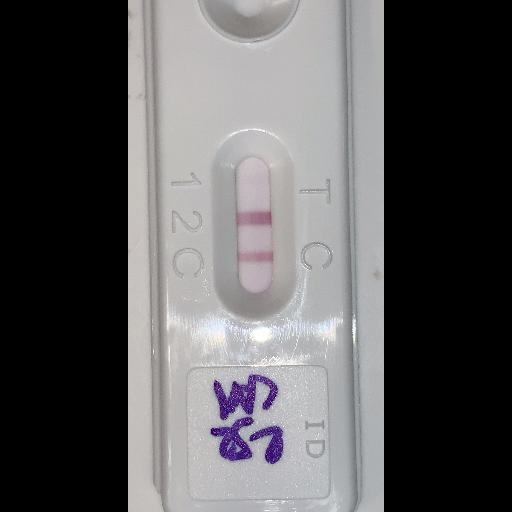Pos: (146, 0, 359, 507)
